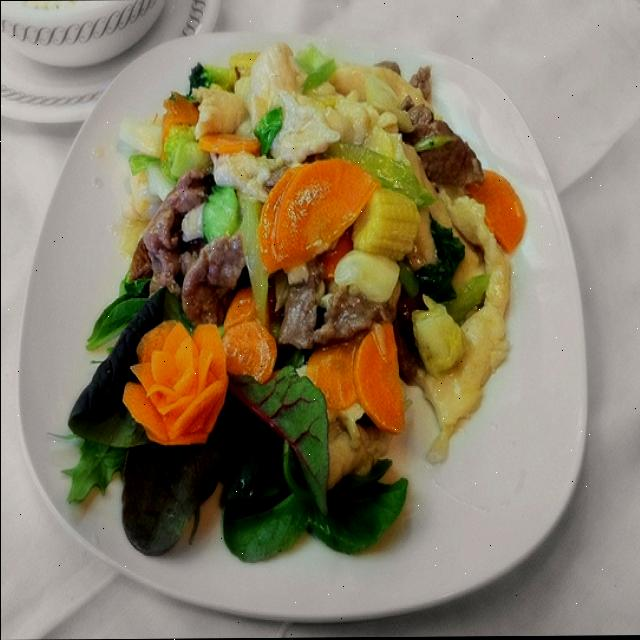牛肉菜式: (35, 16, 578, 607)
